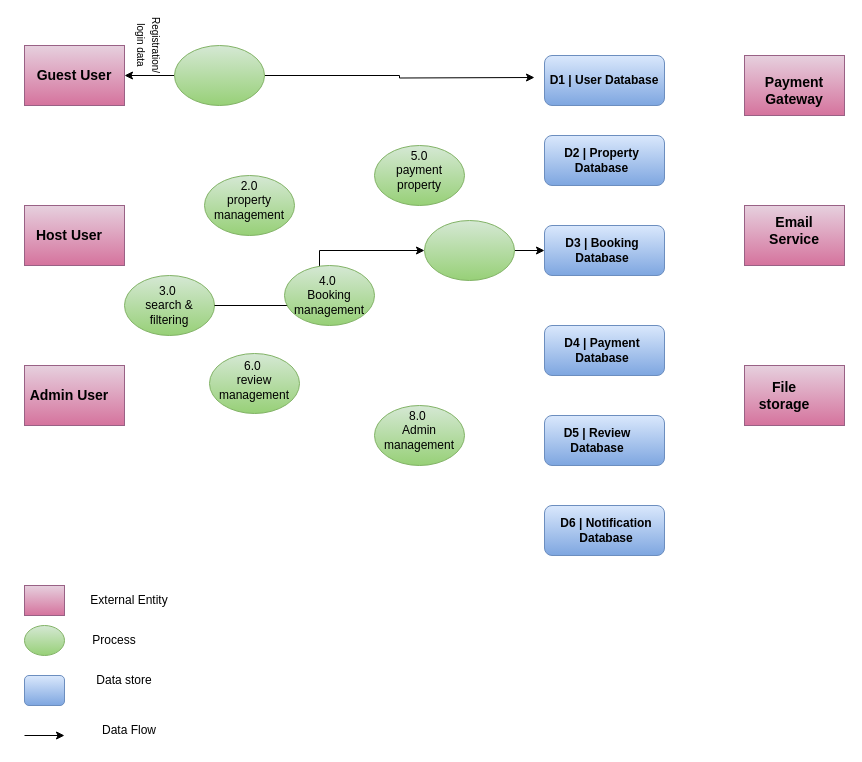
Some shapes in this 862 by 762 pixel diagram are drawn without their labels. Here are the shapes that lost their labels. From the top down, the centre of each, then its label:
At point 219,75: "1.0 user authentication".
At point 469,250: "7.0 Notification system".
